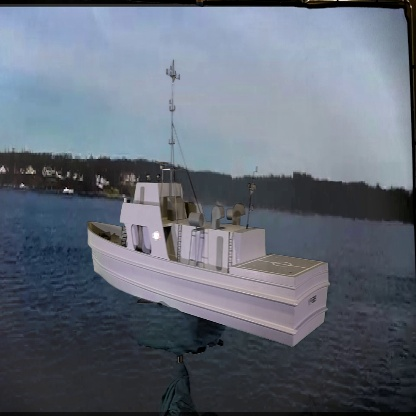YP689: (87, 62, 330, 348)
